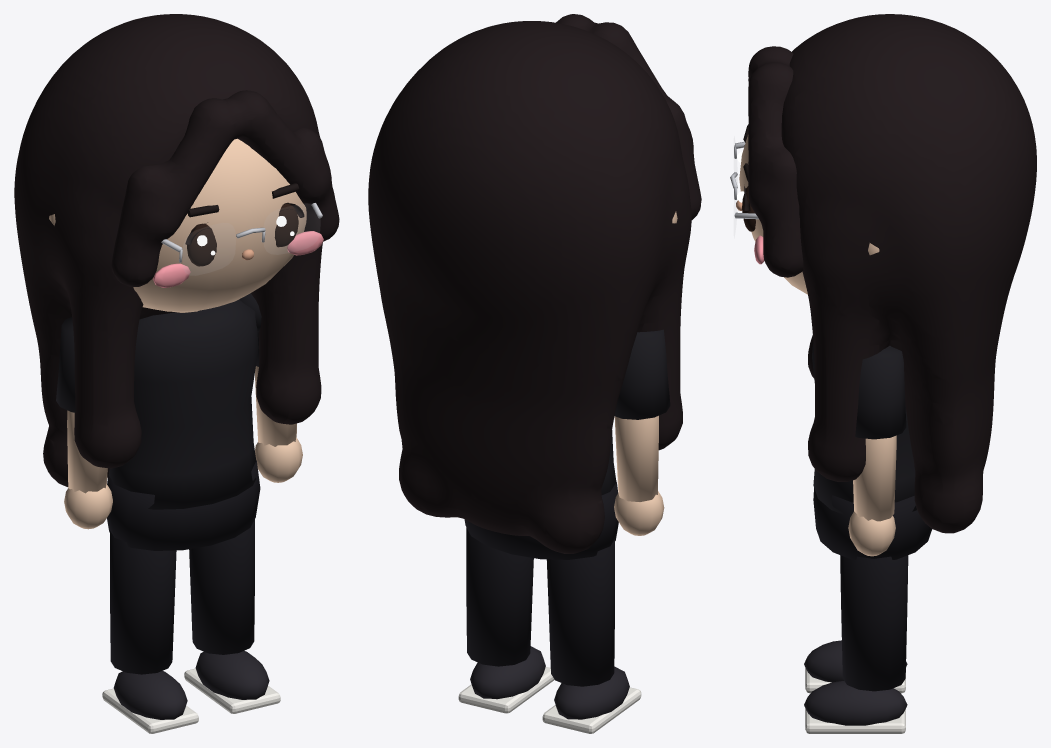
The model's file is zena_lrt.glb.
The picture shows the model from 3 angles, left to right: view 1: azimuth 30°, elevation 25°; view 2: azimuth 150°, elevation 25°; view 3: azimuth 270°, elevation 25°; orthographic projection. The views are drawn at different scales.
Parts seen in each view (by area): view 1: zena_hair_main, zena_shirt, zena_hair_bangs, zena_head, zena_legR, zena_legL, zena_hips, zena_shoeR, zena_shoeL, zena_handR, zena_armR, zena_handL (+8 smaller); view 2: zena_hair_main, zena_legR, zena_legL, zena_sleeveR, zena_armR, zena_hair_bangs, zena_hips, zena_shoeR, zena_shoeL, zena_handR, zena_soleR, zena_soleL; view 3: zena_hair_main, zena_hair_bangs, zena_legL, zena_sleeveL, zena_hips, zena_shoeL, zena_armL, zena_shirt, zena_handL, zena_shoeR, zena_soleL, zena_head.
Boxes of the visible parts, x1,y1,x2,y2 form: zena_hair_main: [14, 14, 322, 486]; zena_shirt: [108, 299, 258, 509]; zena_hair_bangs: [111, 90, 339, 286]; zena_head: [133, 138, 306, 312]; zena_legR: [110, 531, 176, 674]; zena_legL: [189, 519, 254, 654]; zena_hips: [107, 460, 260, 550]; zena_shoeR: [113, 671, 187, 719]; zena_shoeL: [195, 650, 269, 699]; zena_handR: [64, 484, 112, 529]; zena_armR: [67, 410, 107, 493]; zena_handL: [255, 437, 302, 482]; zena_hair_main: [368, 21, 691, 553]; zena_legR: [546, 539, 614, 686]; zena_legL: [466, 527, 533, 666]; zena_sleeveR: [614, 329, 670, 419]; zena_armR: [614, 415, 658, 501]; zena_hair_bangs: [556, 14, 701, 219]; zena_hips: [464, 482, 618, 559]; zena_shoeR: [554, 666, 629, 719]; zena_shoeL: [470, 646, 545, 699]; zena_handR: [614, 491, 664, 535]; zena_soleR: [542, 687, 641, 733]; zena_soleL: [458, 667, 554, 713]; zena_hair_main: [781, 14, 1036, 533]; zena_hair_bangs: [748, 46, 803, 277]; zena_legL: [840, 555, 908, 691]; zena_sleeveL: [855, 346, 906, 439]; zena_hips: [813, 488, 932, 559]; zena_shoeL: [804, 681, 907, 725]; zena_armL: [853, 435, 896, 521]; zena_shirt: [812, 342, 916, 514]; zena_handL: [848, 511, 895, 556]; zena_shoeR: [804, 640, 907, 682]; zena_soleL: [805, 708, 905, 733]; zena_head: [739, 135, 807, 294].
Bounding box in the file's own units: 0.5992 × 1.41 × 0.5799.
